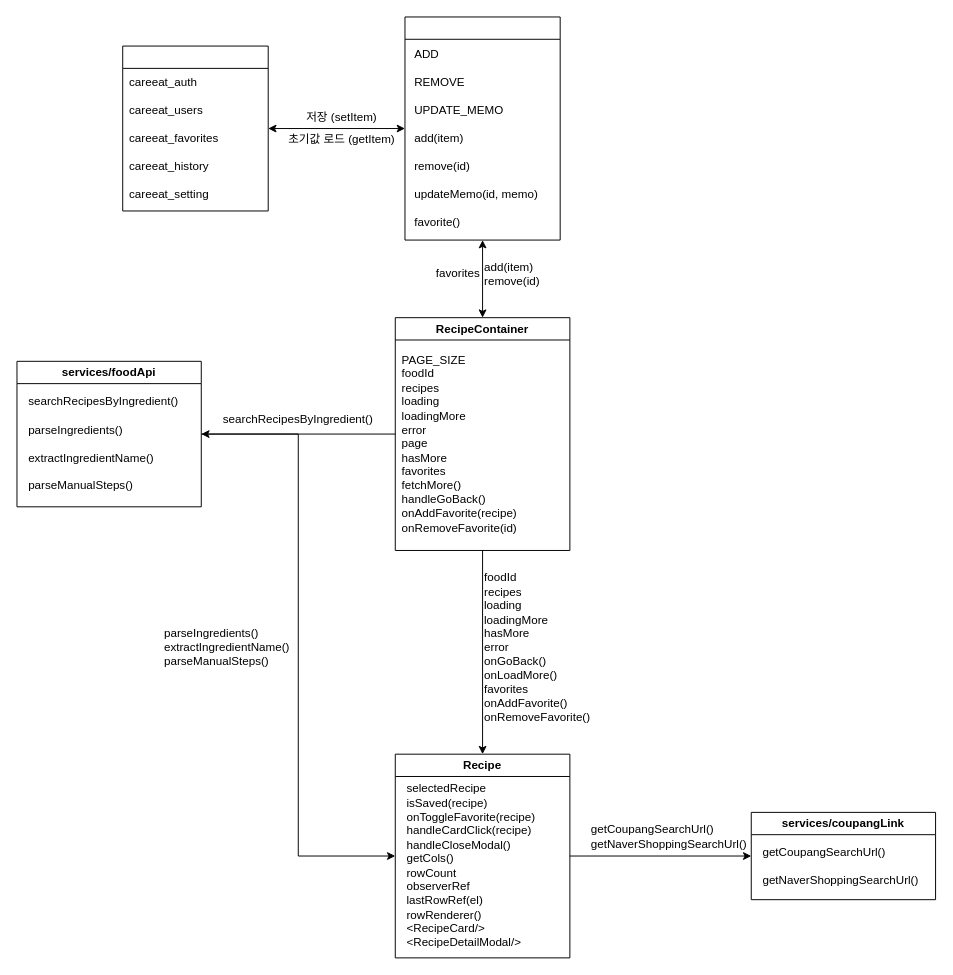
Some shapes in this 953 by 975 pixel diagram are drawn without their labels. The shapes that lost their labels are listed below. From the top down, each one's box as (x1, y1, x2, y2) in pixels, then its label:
(122, 45, 268, 211): localStorage
(404, 16, 560, 240): modules/favorite
